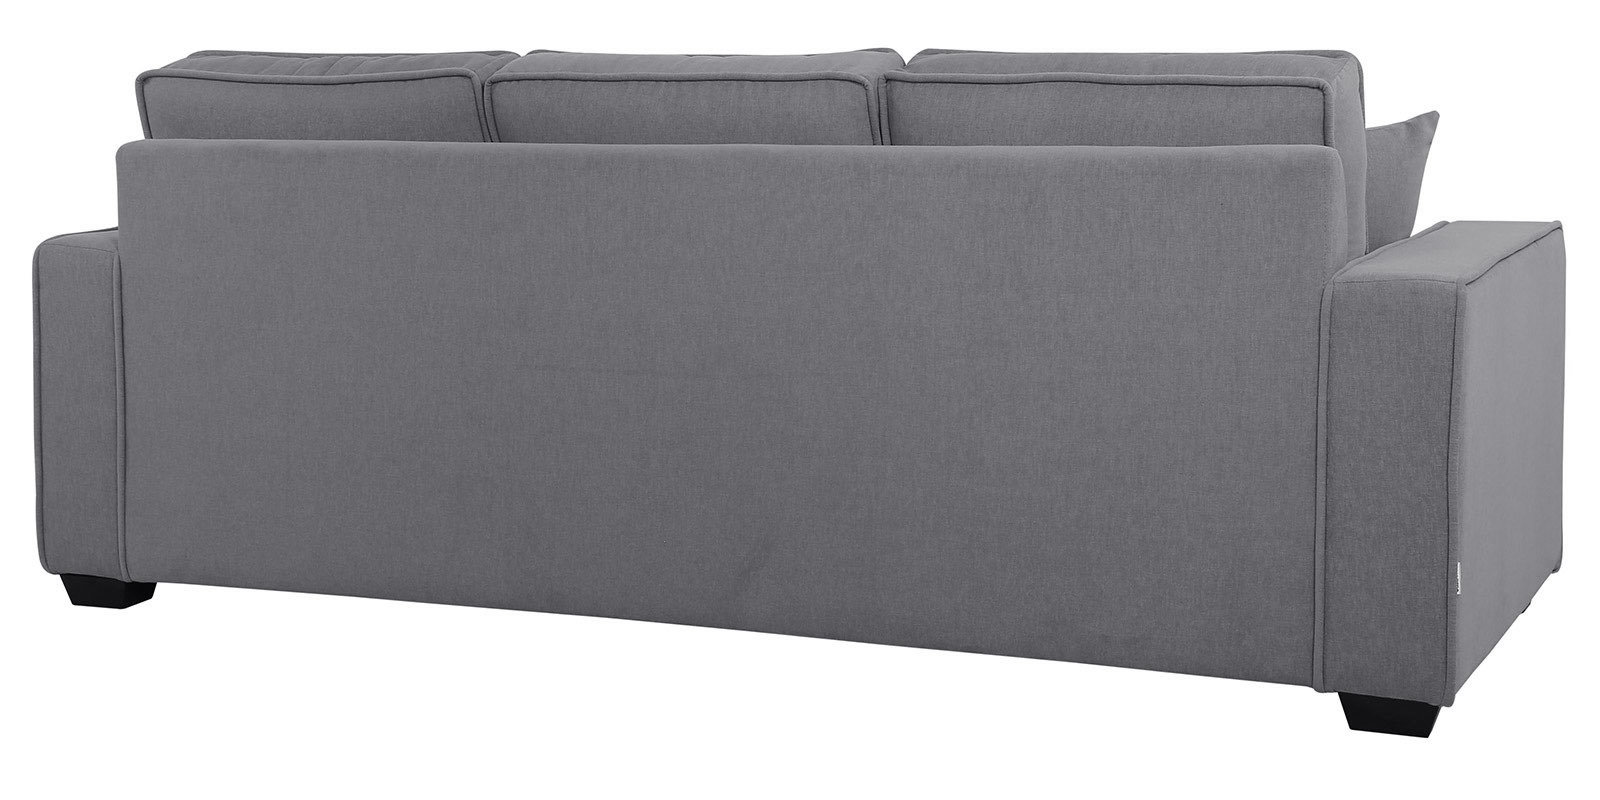Hugo Three Seater Sofa in Ash Grey Colour by CasaCraft: (18, 19, 1584, 793)
